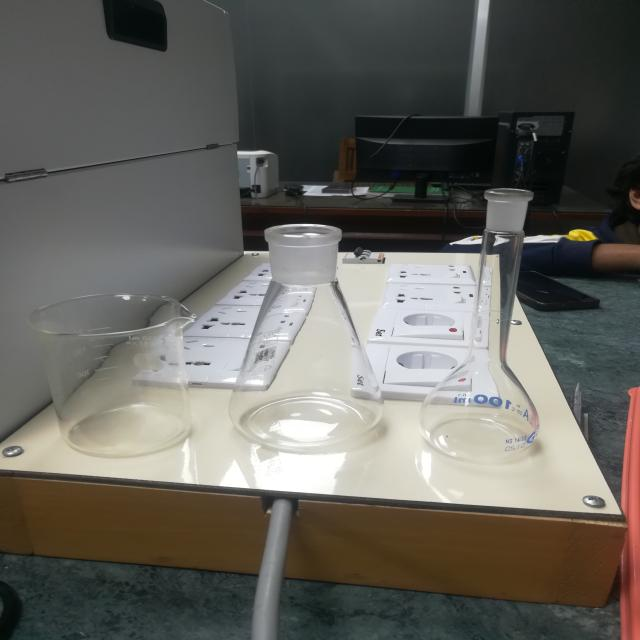Beaker: (18, 270, 212, 471)
Conical_Flask: (222, 220, 402, 467)
Volumetric_Flask: (414, 157, 592, 474)
